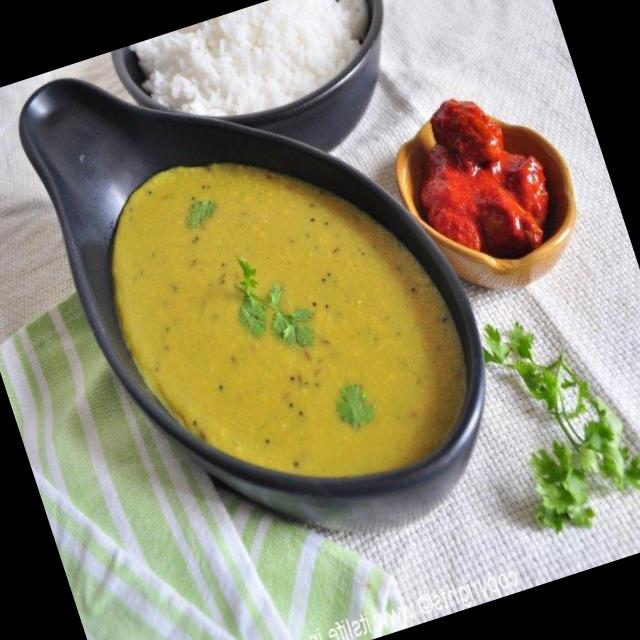dal: (90, 91, 482, 522)
rice: (129, 0, 389, 153)
